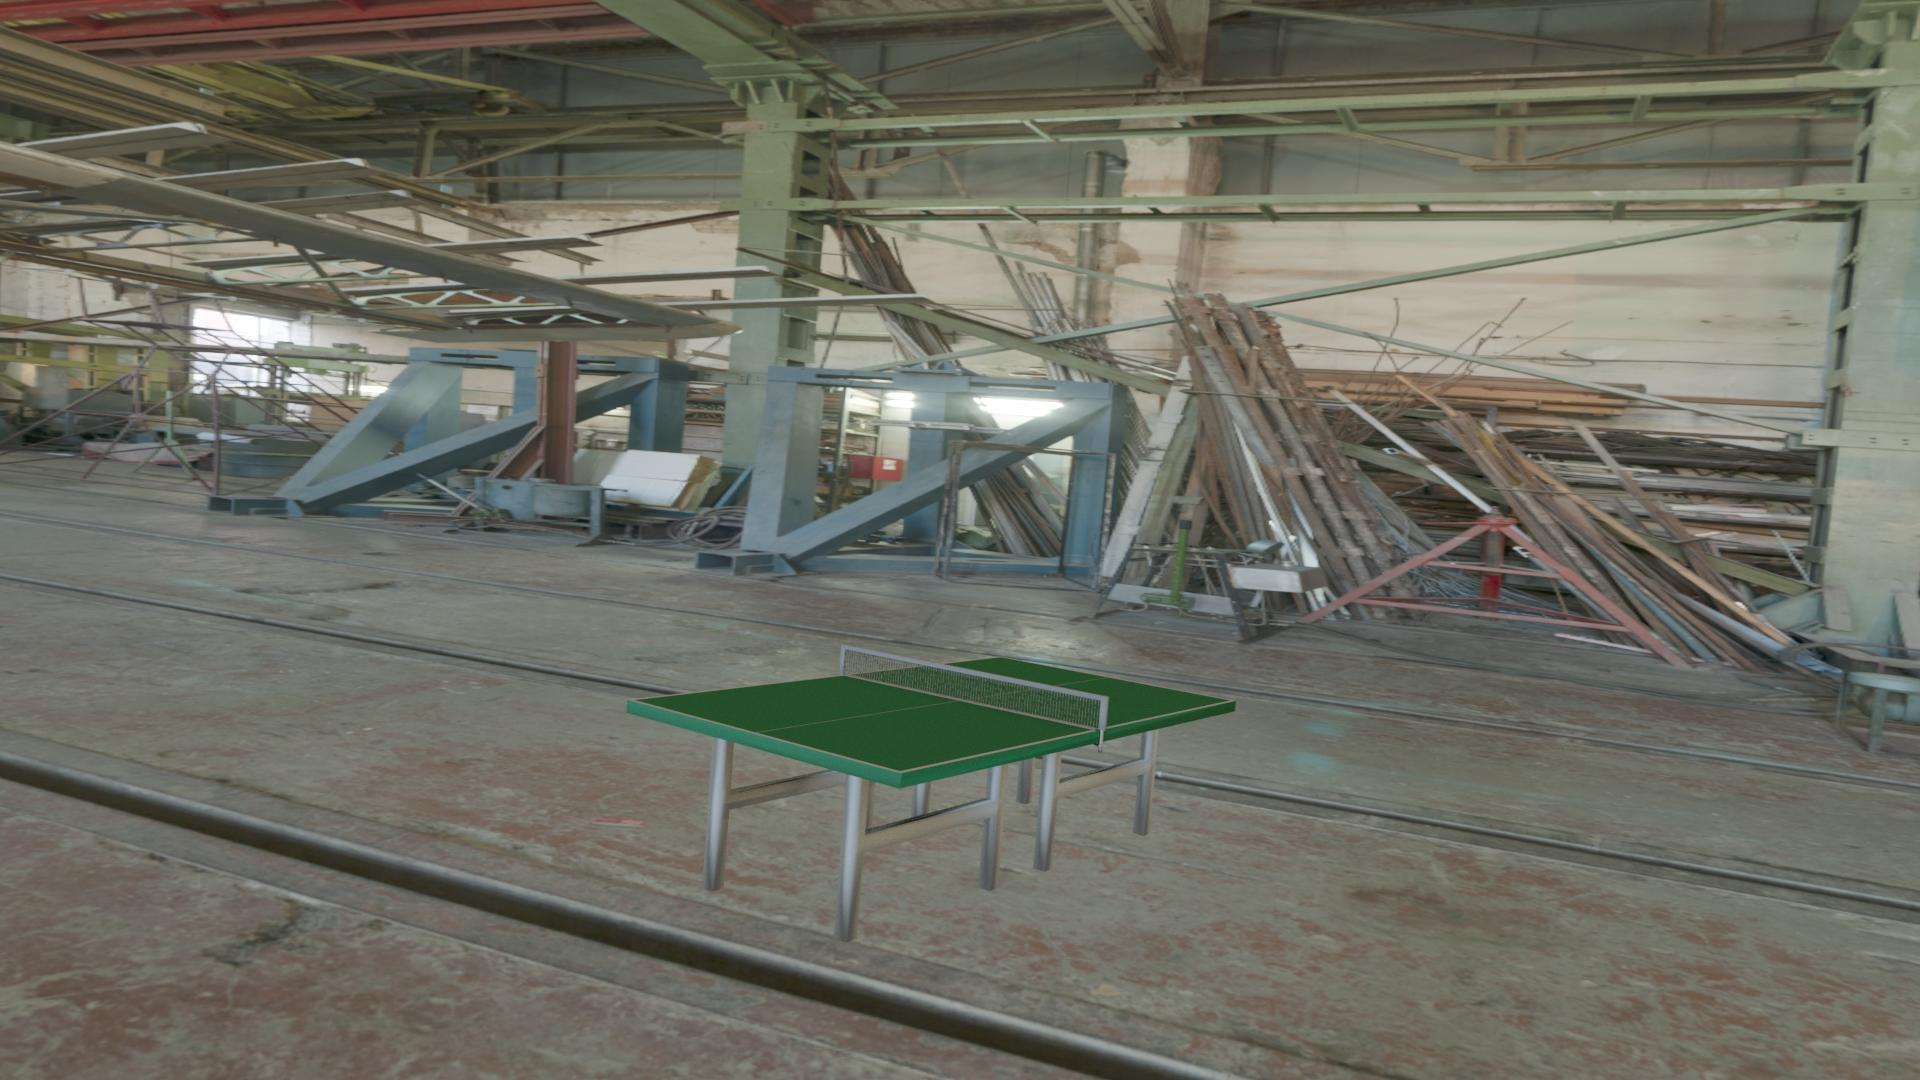table: (634, 657, 1230, 771)
